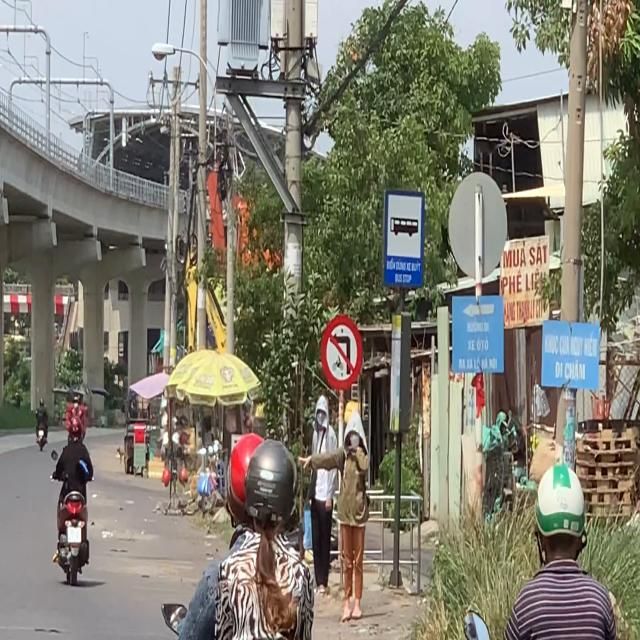Ben xe buyt: (382, 186, 427, 292)
Cam re trai: (320, 314, 363, 389)
